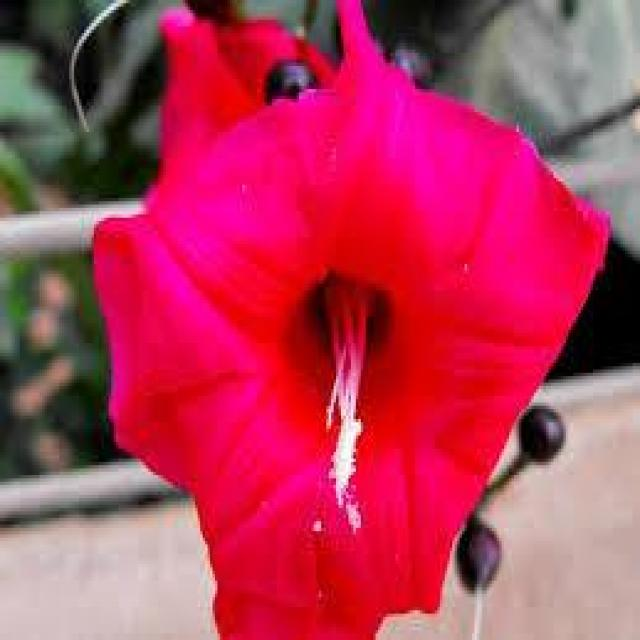organic waste: (88, 62, 609, 624)
